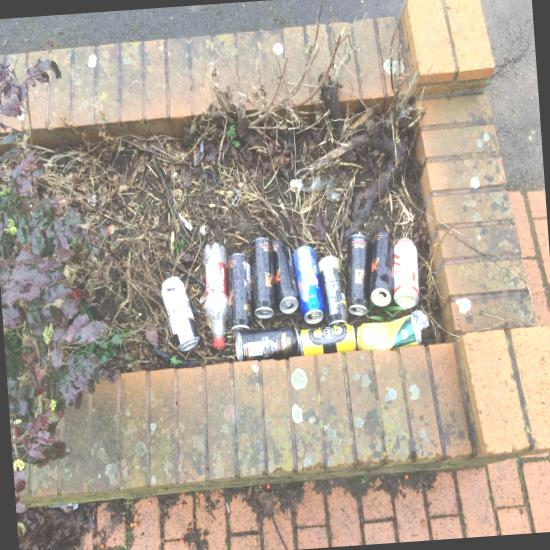Clear plastic bottle: (203, 241, 228, 350)
Drink can: (161, 276, 199, 351), (293, 246, 324, 324), (235, 325, 299, 361), (357, 314, 421, 349), (317, 256, 348, 325), (227, 253, 252, 335), (250, 237, 275, 318), (345, 234, 369, 315), (272, 240, 299, 312), (299, 322, 356, 355), (369, 229, 393, 306), (393, 238, 418, 308)
Plastic bottle cap: (213, 341, 225, 349)
Pop tab: (374, 293, 383, 304), (285, 301, 291, 307), (356, 308, 363, 313), (312, 314, 319, 318), (261, 311, 267, 314)
Unlabeled litter: (411, 310, 428, 330), (306, 176, 326, 190), (325, 177, 338, 198), (178, 211, 192, 230), (289, 178, 304, 186), (225, 501, 229, 514)
